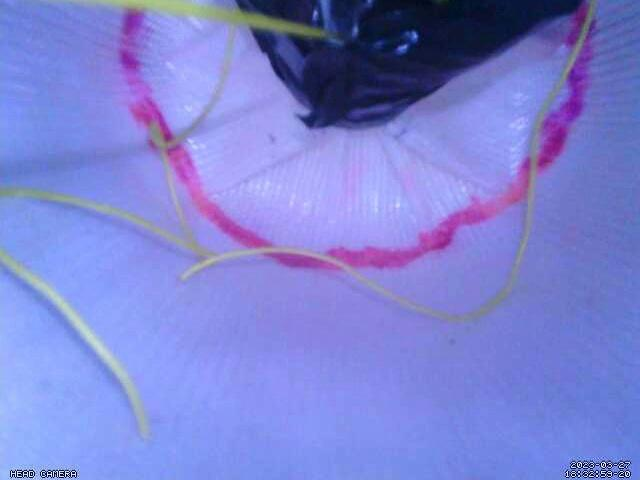head: (116, 6, 597, 272)
